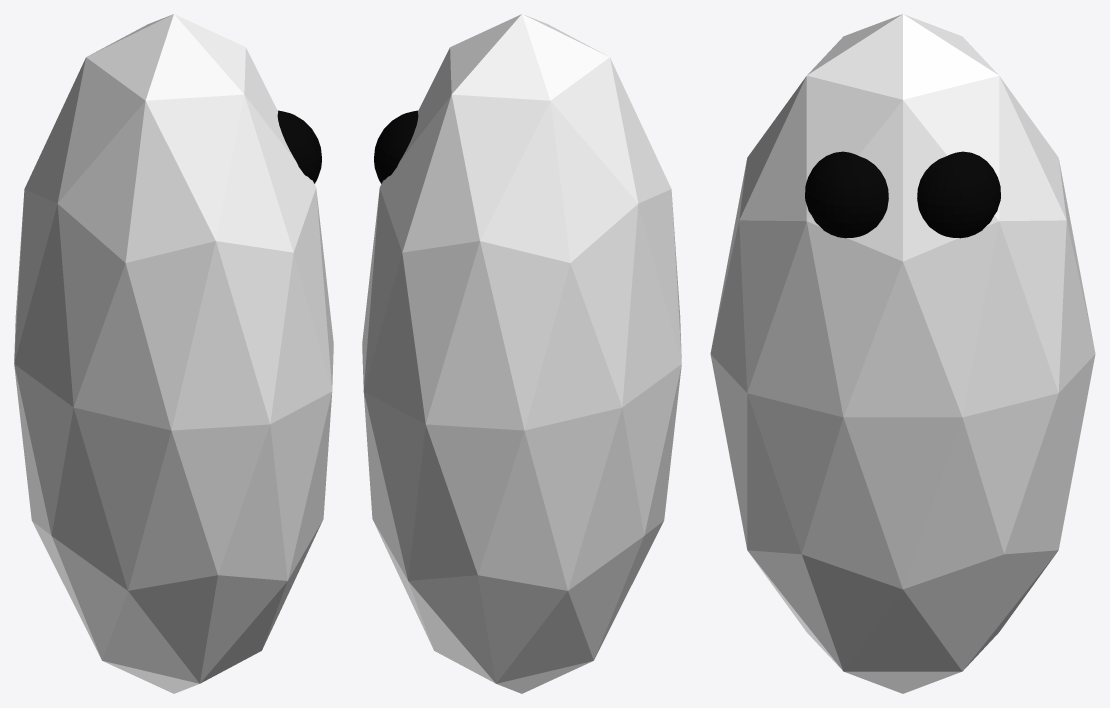
Rendered from blob.glb.
The picture shows the model from 3 angles, left to right: view 1: azimuth 30°, elevation 25°; view 2: azimuth 150°, elevation 25°; view 3: azimuth 270°, elevation 25°; orthographic projection.
Parts seen in each view (by area): view 1: Icosphere; view 2: Icosphere; view 3: Icosphere.
Boxes of the visible parts, x1=… form: Icosphere: x1=14, y1=14, x2=333, y2=693; Icosphere: x1=362, y1=14, x2=681, y2=693; Icosphere: x1=710, y1=14, x2=1095, y2=693.
Bounding box in the file's own units: 2.43 × 6.08 × 3.12.
2 materials, 2 textured.
